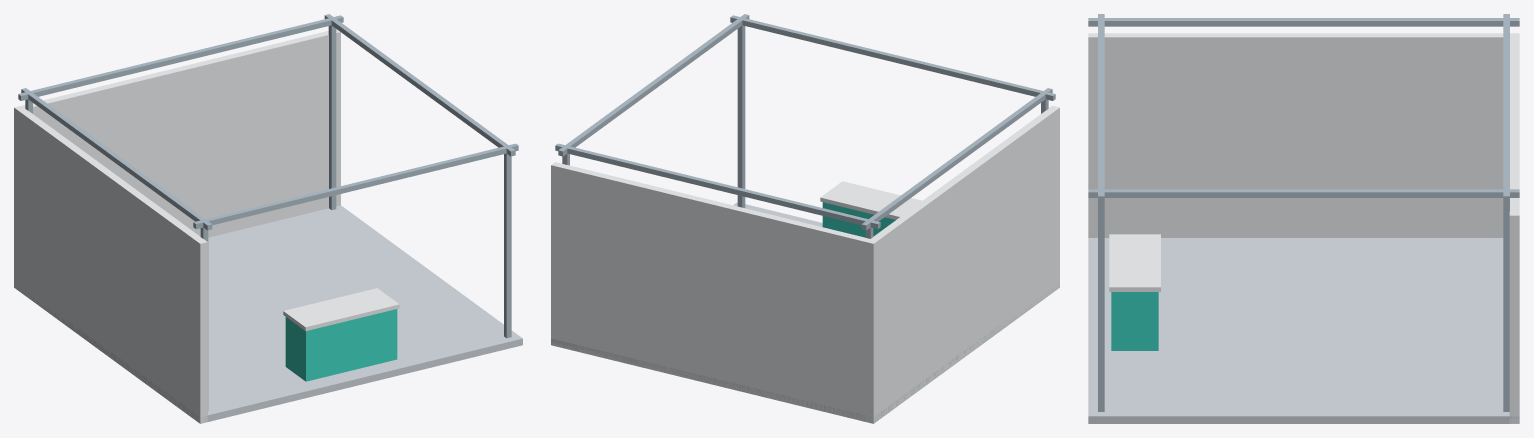
The picture shows the model from 3 angles, left to right: view 1: azimuth 30°, elevation 25°; view 2: azimuth 150°, elevation 25°; view 3: azimuth 270°, elevation 25°; orthographic projection. The views are drawn at different scales.
Visible parts, largest first — view 1: Exhibition Booth Concept; view 2: Exhibition Booth Concept; view 3: Exhibition Booth Concept.
Boxes of the visible parts, box(x1,y1,x2,y2) form: Exhibition Booth Concept: box(14, 14, 522, 423); Exhibition Booth Concept: box(551, 14, 1059, 423); Exhibition Booth Concept: box(1088, 14, 1519, 423).
Size of the model in its own units: 6 by 3.49 by 6.
